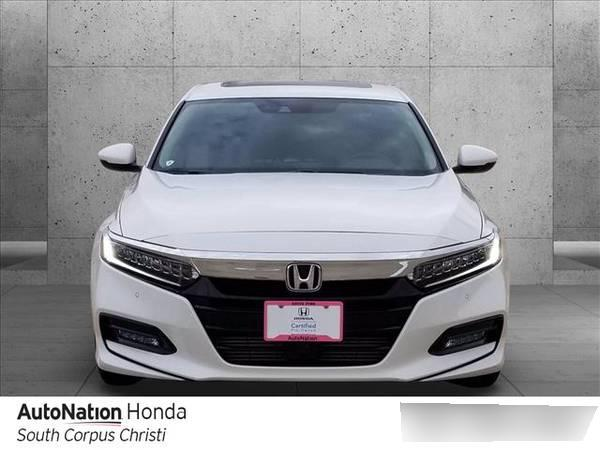Front_Bumper: (87, 234, 224, 382), (370, 257, 513, 385)
Front_Windshield: (145, 98, 443, 177)
Grille: (181, 275, 425, 383)
Hood: (105, 171, 494, 284)
Left_Headlight: (413, 228, 506, 293)
Left_Mirror: (459, 143, 501, 174)
Right_Headlight: (98, 228, 203, 290)
Right_Mirror: (98, 141, 136, 172)
Roof: (180, 79, 409, 101)
